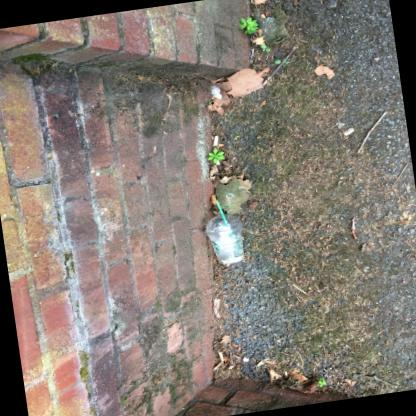Paper: (211, 361, 220, 370), (212, 134, 217, 145), (217, 350, 222, 360), (283, 370, 286, 375)
Plastic: (205, 221, 243, 262), (204, 213, 241, 232), (214, 199, 227, 223)
